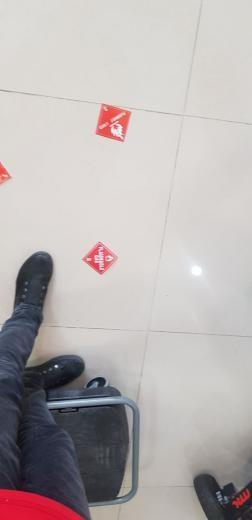flammable: (94, 104, 133, 143), (82, 242, 118, 277)
